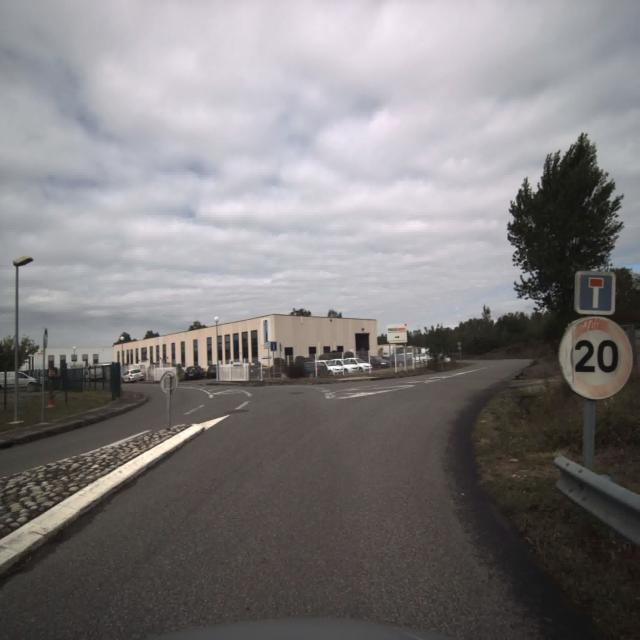car: (0, 370, 43, 392), (302, 359, 333, 376), (182, 365, 207, 380), (122, 369, 146, 383), (368, 355, 390, 369)
